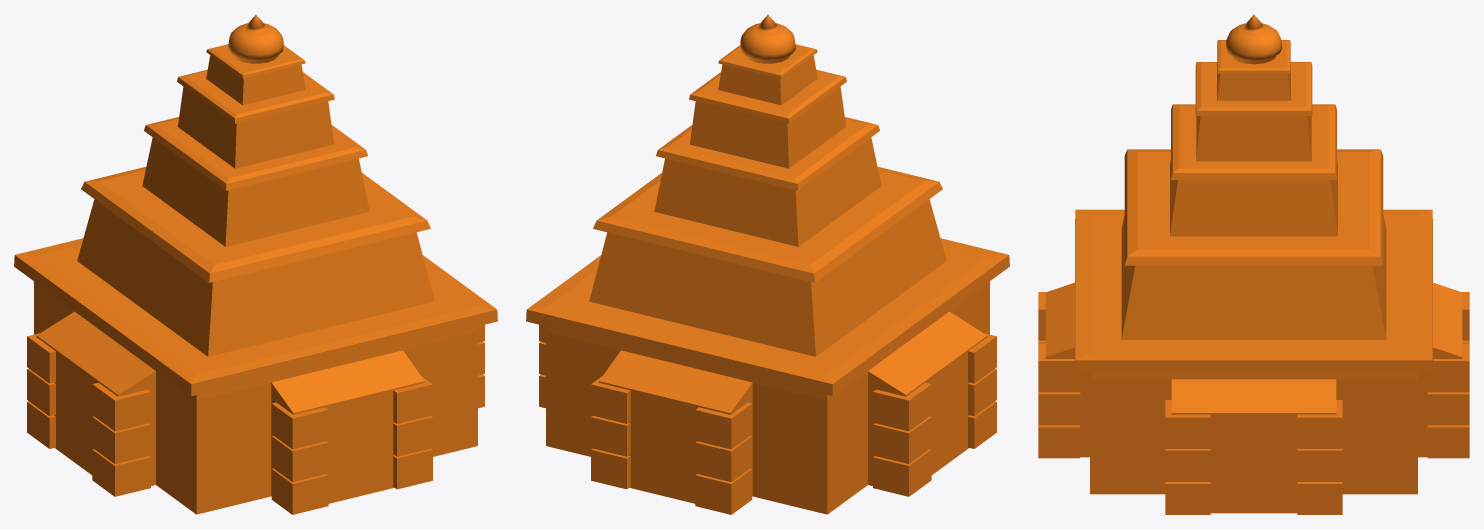
Rendered from hindu_temple.glb.
The picture shows the model from 3 angles, left to right: view 1: azimuth 30°, elevation 25°; view 2: azimuth 150°, elevation 25°; view 3: azimuth 270°, elevation 25°; orthographic projection.
Visible parts, largest first — view 1: Cube.505; view 2: Cube.505; view 3: Cube.505.
Part boxes in pixels (x1,y1,x2,y2): Cube.505: [14, 14, 497, 514]; Cube.505: [526, 14, 1009, 514]; Cube.505: [1038, 14, 1469, 514].
Bounding box in the file's own units: 1.97 × 2.08 × 1.97.
1 material, 1 textured.
